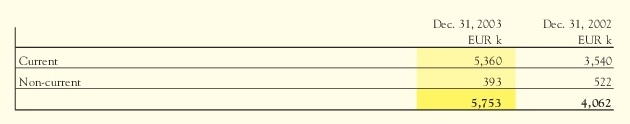table: (0, 0, 630, 124)
